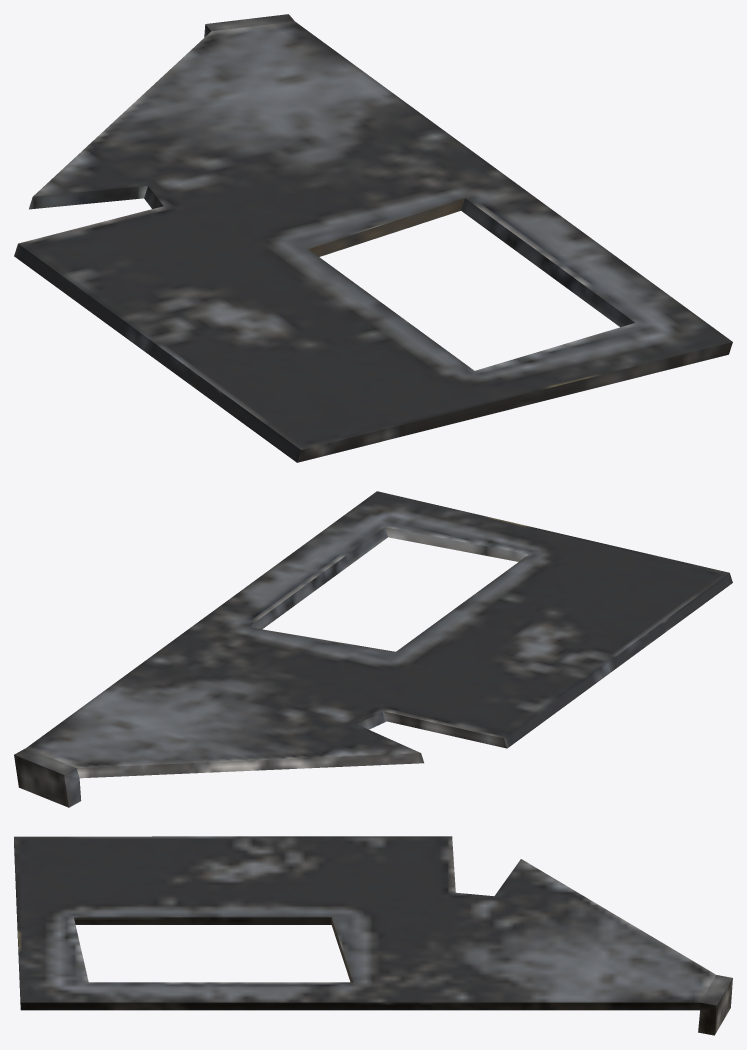
The model's file is C70DoorArmor_WorldItem.fbx.
The picture shows the model from 3 angles, top to bottom: view 1: azimuth 30°, elevation 25°; view 2: azimuth 150°, elevation 25°; view 3: azimuth 270°, elevation 25°; orthographic projection. The views are drawn at different scales.
Parts seen in each view (by area): view 1: FrontRightDoorArmor_obj; view 2: FrontRightDoorArmor_obj; view 3: FrontRightDoorArmor_obj.
Boxes of the visible parts, <box> form: FrontRightDoorArmor_obj: <box>14,14,732,462</box>; FrontRightDoorArmor_obj: <box>14,491,732,807</box>; FrontRightDoorArmor_obj: <box>14,836,732,1035</box>.
Bounding box in the file's own units: 0.7774 × 0.0733 × 1.4.
